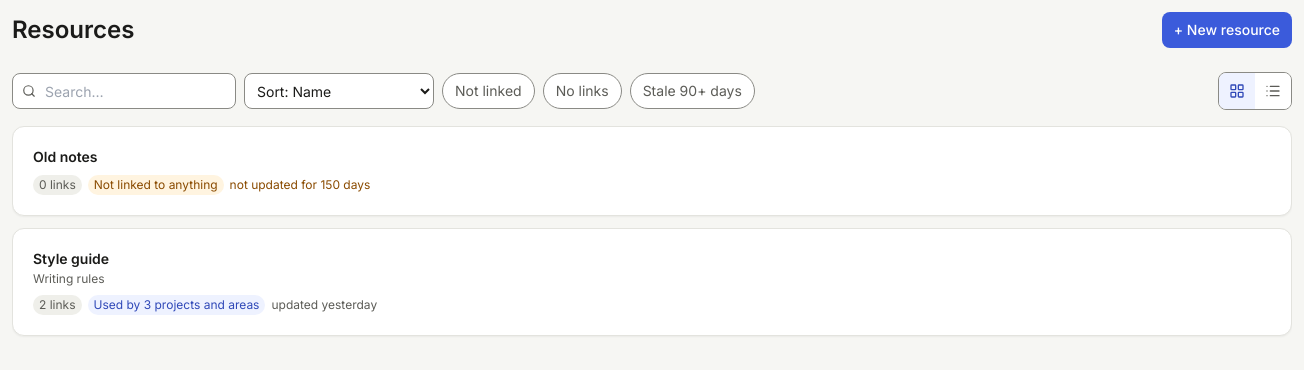
Scenario: ResourcesPage › "Not linked" and sorting by most used work through the URL
This screenshot has width=1304, height=370.
Expected: the heading "Style guide" is shown, [33,250,109,267]
Select "Sort: Most used" in the dropdown named "Sort by" at [339, 91], box [244,73,434,109]
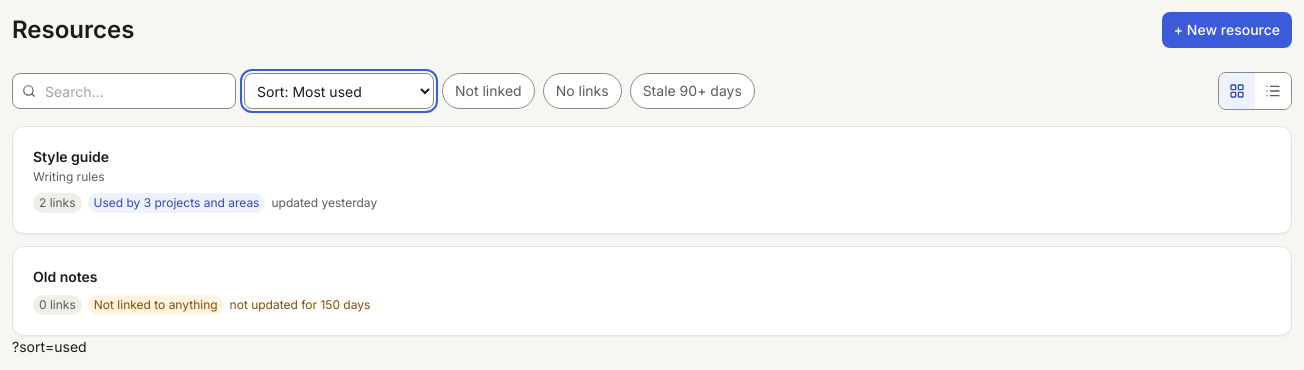
Click the button "Not linked" at [488, 91], box [442,73,535,109]
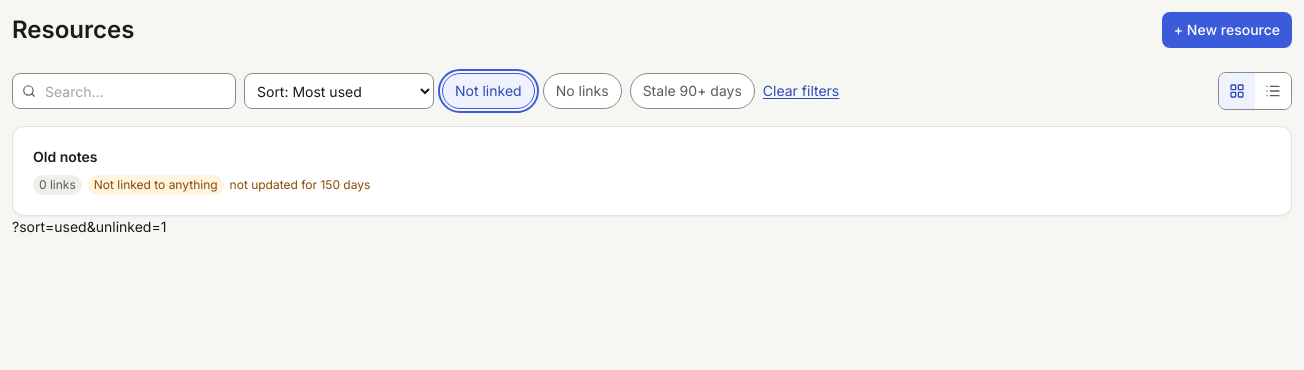
Result: the text with test id "search" shows "unlinked=1" at [12,218,166,235]
